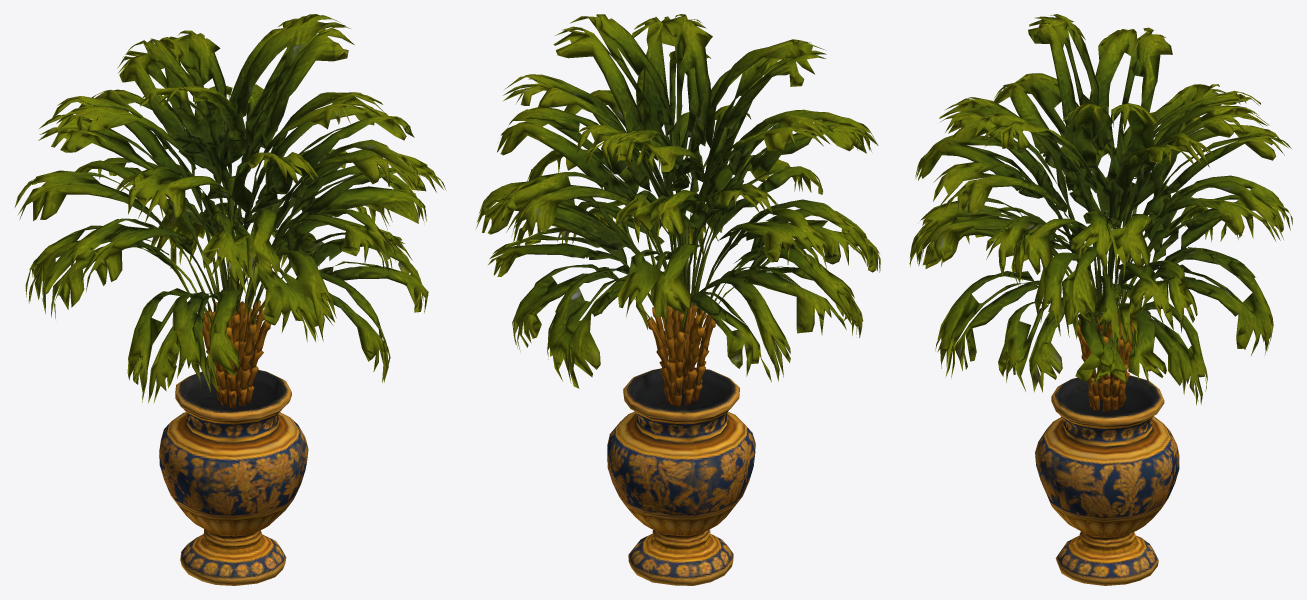
Rendered from شتله.glb.
3 views of the same model, side by side, from view 1: azimuth 30°, elevation 25°; view 2: azimuth 150°, elevation 25°; view 3: azimuth 270°, elevation 25° (orthographic). The views are drawn at different scales.
Visible parts, largest first — view 1: tripo_node_10884275-41fe-4aa0-8998-f033197cbf11; view 2: tripo_node_10884275-41fe-4aa0-8998-f033197cbf11; view 3: tripo_node_10884275-41fe-4aa0-8998-f033197cbf11.
Boxes of the visible parts, bbox=[...] form: tripo_node_10884275-41fe-4aa0-8998-f033197cbf11: bbox=[14, 14, 446, 585]; tripo_node_10884275-41fe-4aa0-8998-f033197cbf11: bbox=[475, 14, 880, 585]; tripo_node_10884275-41fe-4aa0-8998-f033197cbf11: bbox=[909, 14, 1292, 585].
Size of the model in its own units: 0.8686 by 1.2 by 0.828.
1 material, 1 textured.
